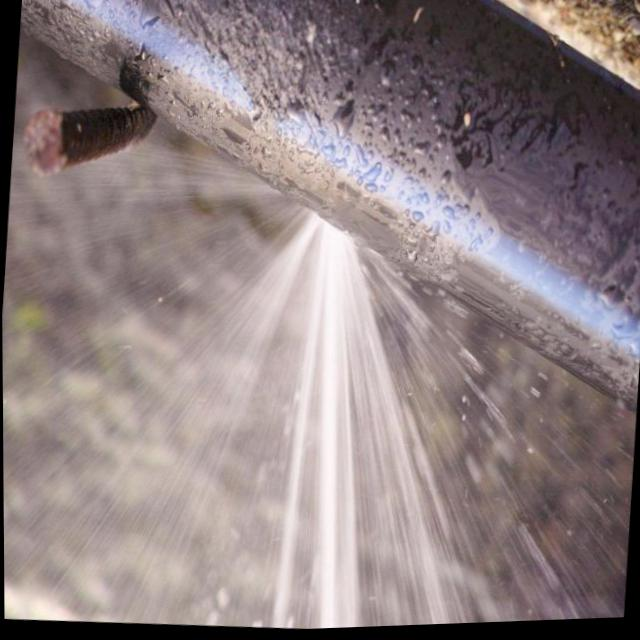leak: (2, 114, 635, 627)
